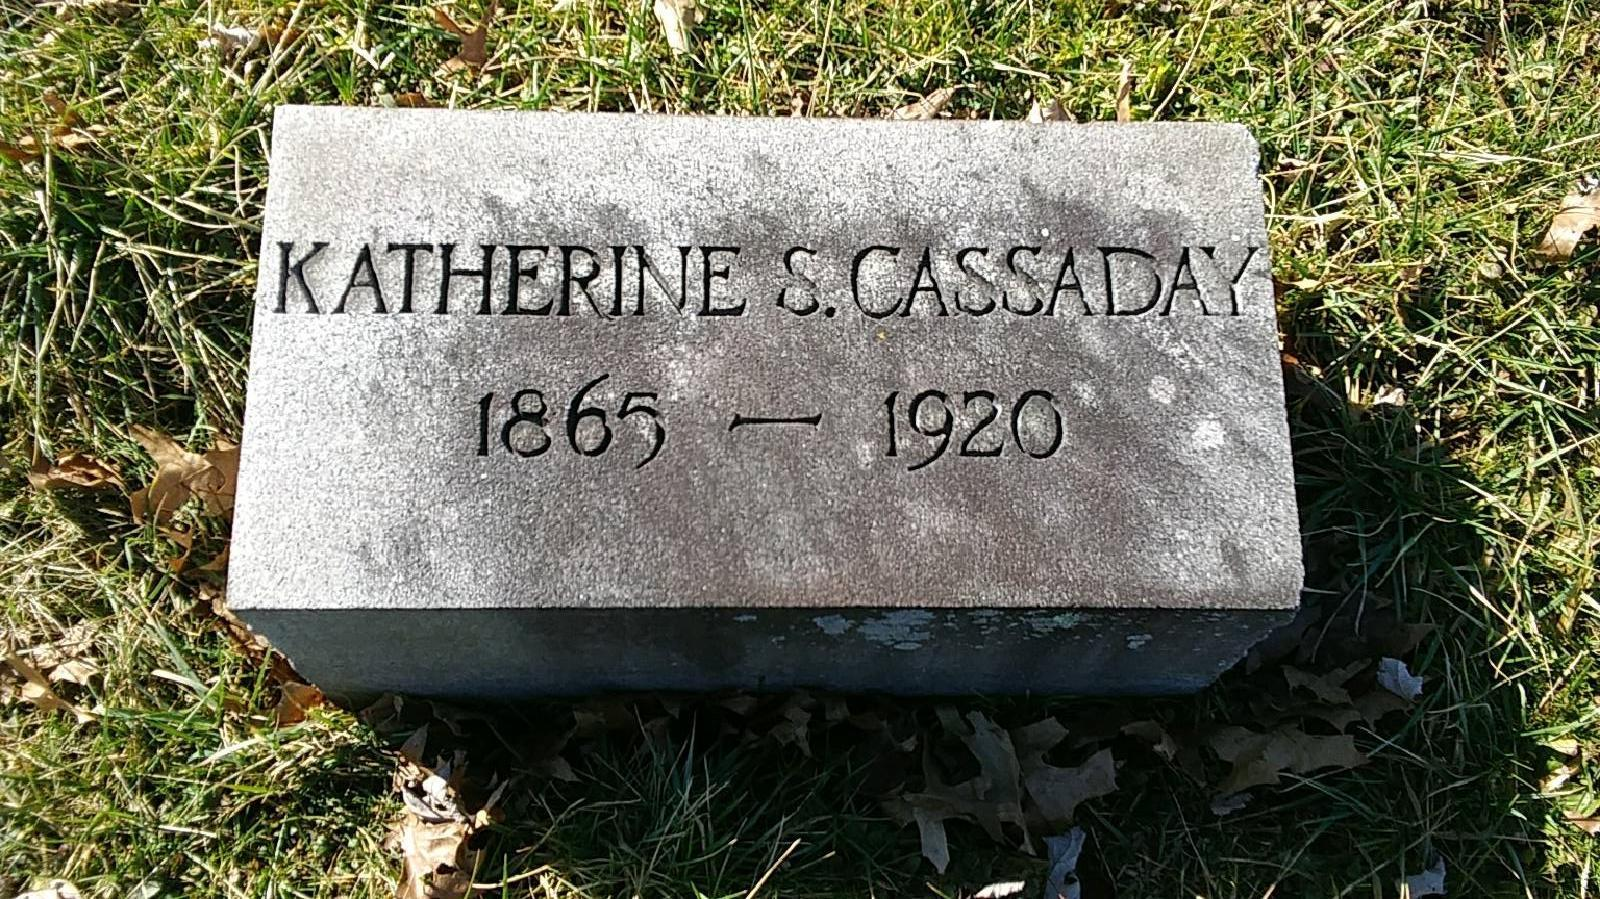flat: (225, 92, 1301, 680)
